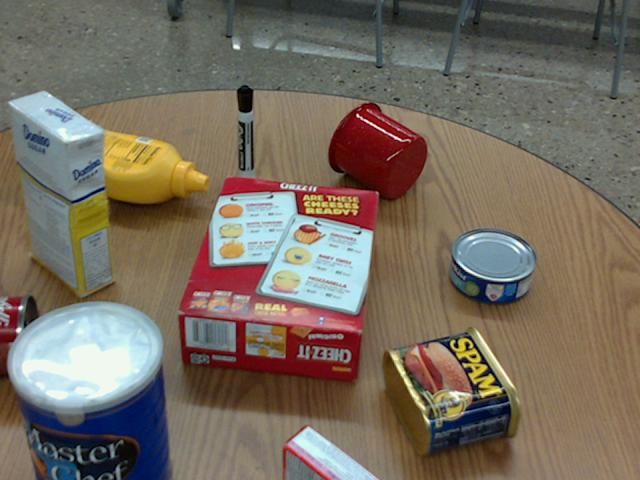cracker_box: (177, 178, 377, 378)
gelatin_box: (281, 423, 379, 479)
large_marker: (236, 85, 252, 182)
master_chef_can: (5, 300, 168, 479)
mug: (327, 101, 427, 198)
mustard_bottle: (28, 122, 207, 202)
potted_meat_can: (384, 326, 520, 456)
sugar_box: (9, 90, 111, 296)
tomato_soup_can: (0, 293, 38, 371)
tuna_fish_can: (449, 228, 536, 303)
